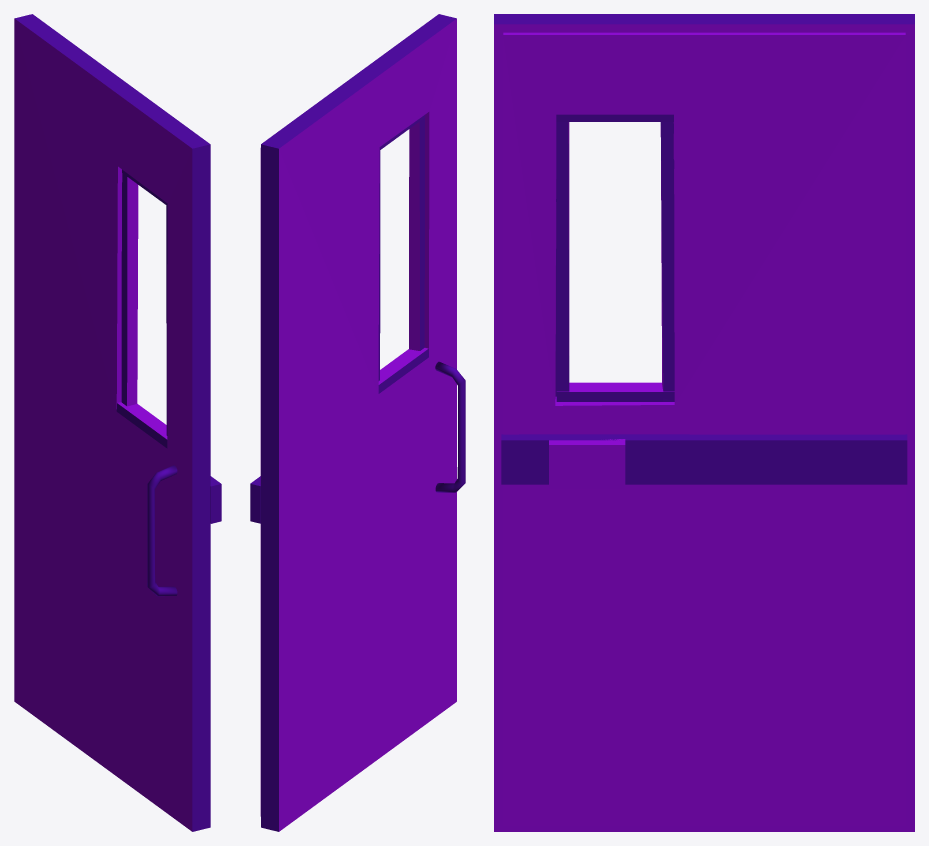
File: Single School Door L.fbx
The picture shows the model from 3 angles, left to right: view 1: azimuth 30°, elevation 25°; view 2: azimuth 150°, elevation 25°; view 3: azimuth 270°, elevation 25°; orthographic projection. The views are drawn at different scales.
Visible parts, largest first — view 1: Cube.005, Cylinder.001, Cube.004; view 2: Cube.005, Cylinder.001, Cube.004; view 3: Cube.005, Cube.004, Cube.003.
Part boxes in pixels (x1,y1,x2,y2): Cube.005: (14,14,210,831); Cylinder.001: (147,465,177,596); Cube.004: (210,476,221,523); Cube.005: (260,14,456,831); Cylinder.001: (435,361,465,492); Cube.004: (250,476,260,523); Cube.005: (494,14,914,831); Cube.004: (501,434,907,484); Cube.003: (549,439,625,489).
Bounding box in the file's own units: 76.59 × 758 × 358.
